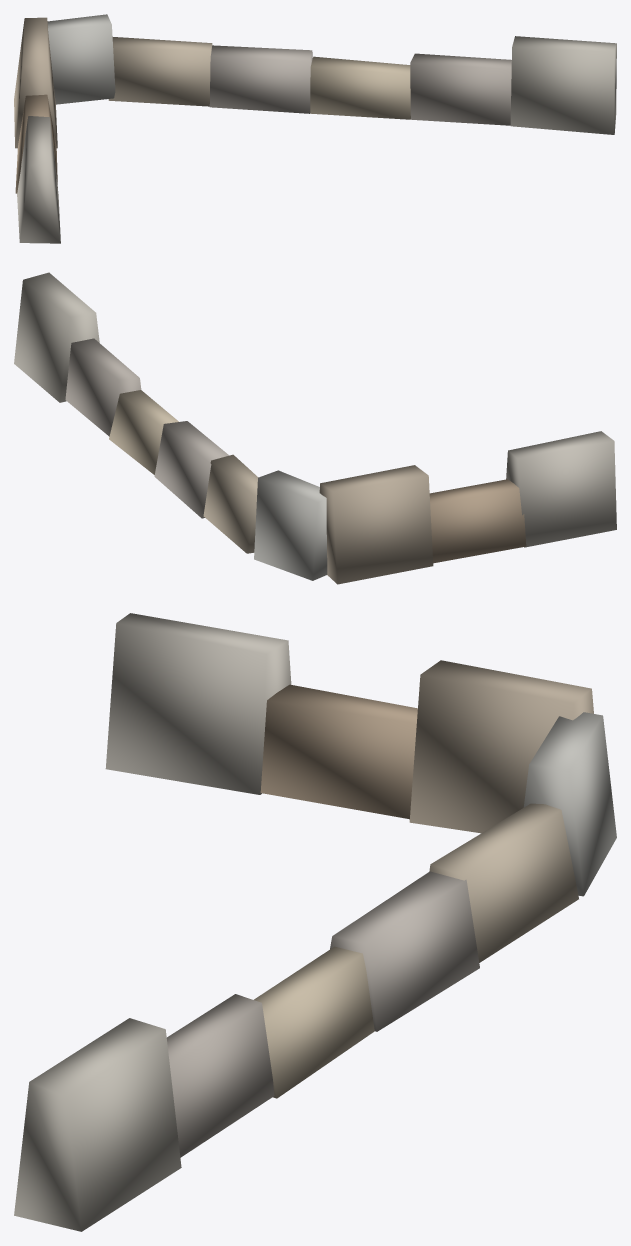
File: farm_-32_-40_far.glb
The picture shows the model from 3 angles, top to bottom: view 1: azimuth 30°, elevation 25°; view 2: azimuth 150°, elevation 25°; view 3: azimuth 270°, elevation 25°; orthographic projection. The views are drawn at different scales.
Parts seen in each view (by area): view 1: geometry_0; view 2: geometry_0; view 3: geometry_0.
Boxes of the visible parts, box(x1,y1,x2,y2) form: geometry_0: box(14, 14, 616, 243); geometry_0: box(14, 272, 616, 584); geometry_0: box(14, 613, 616, 1231).
Size of the model in its own units: 10.43 by 1.69 by 5.44.
